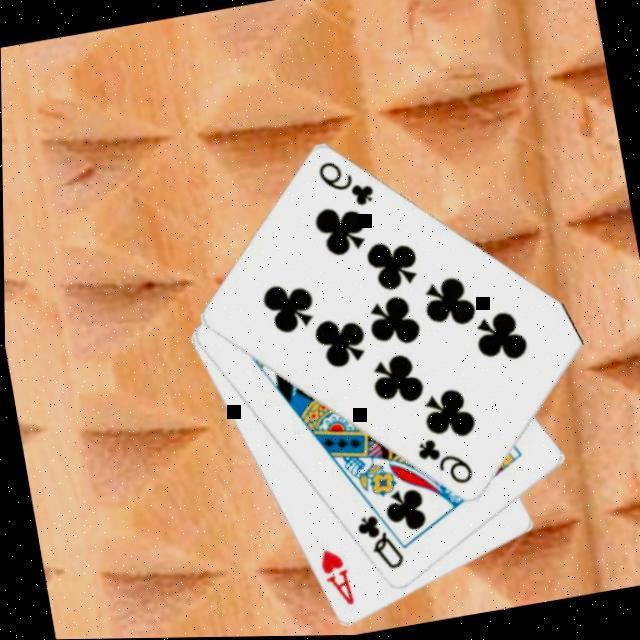9C: (409, 428, 476, 496), (311, 151, 378, 216)
AH: (310, 541, 356, 613)
QC: (348, 506, 406, 578)
